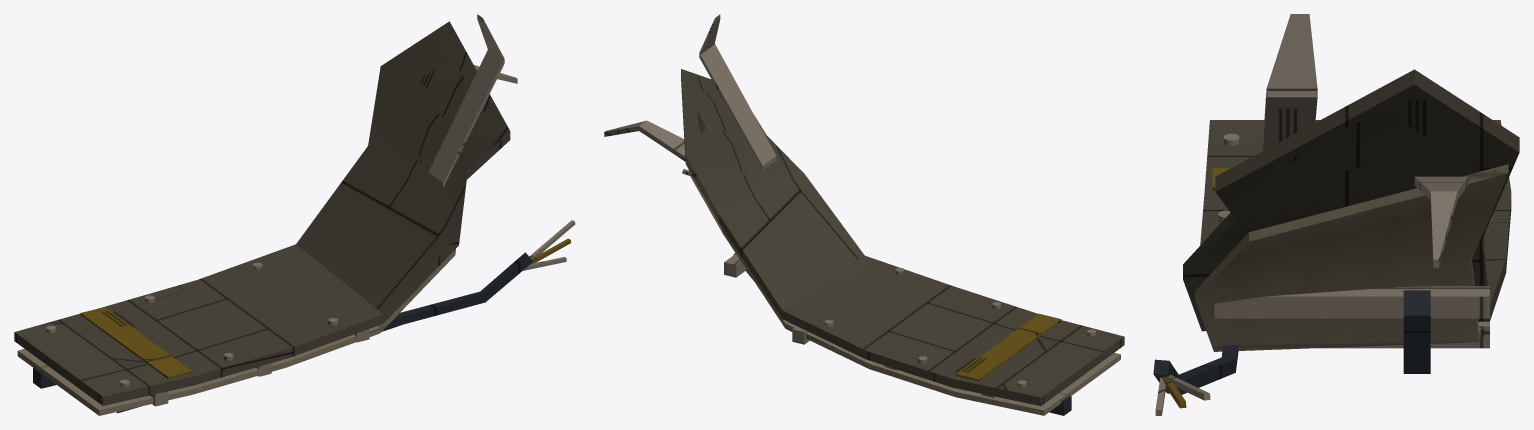
File: cargo-torn-hull-strip_lod1.glb
3 renders of one model, left to right at view 1: azimuth 30°, elevation 25°; view 2: azimuth 150°, elevation 25°; view 3: azimuth 270°, elevation 25°, orthographic. The views are drawn at different scales.
Parts seen in each view (by area): view 1: LOD1_Hull, LOD1_BrushedMetal, LOD1_Ceramic, LOD1_Livery, LOD1_Armor; view 2: LOD1_Hull, LOD1_BrushedMetal, LOD1_Ceramic, LOD1_Livery; view 3: LOD1_Hull, LOD1_Ceramic, LOD1_BrushedMetal, LOD1_Armor, LOD1_Livery.
Boxes of the visible parts, x1=… form: LOD1_Hull: x1=14, y1=21, x2=510, y2=405; LOD1_BrushedMetal: x1=46, y1=14, x2=575, y2=406; LOD1_Ceramic: x1=17, y1=249, x2=455, y2=415; LOD1_Livery: x1=80, y1=238, x2=571, y2=379; LOD1_Armor: x1=33, y1=252, x2=533, y2=413; LOD1_Hull: x1=681, y1=69, x2=1124, y2=405; LOD1_BrushedMetal: x1=604, y1=14, x2=1096, y2=398; LOD1_Ceramic: x1=688, y1=170, x2=1120, y2=415; LOD1_Livery: x1=956, y1=313, x2=1061, y2=381; LOD1_Hull: x1=1183, y1=69, x2=1519, y2=331; LOD1_Ceramic: x1=1195, y1=164, x2=1508, y2=351; LOD1_BrushedMetal: x1=1155, y1=14, x2=1492, y2=415; LOD1_Armor: x1=1153, y1=290, x2=1430, y2=394; LOD1_Livery: x1=1163, y1=168, x2=1230, y2=408.
Size of the model in its own units: 3.42 by 2 by 1.36.
5 materials, 5 textured.
